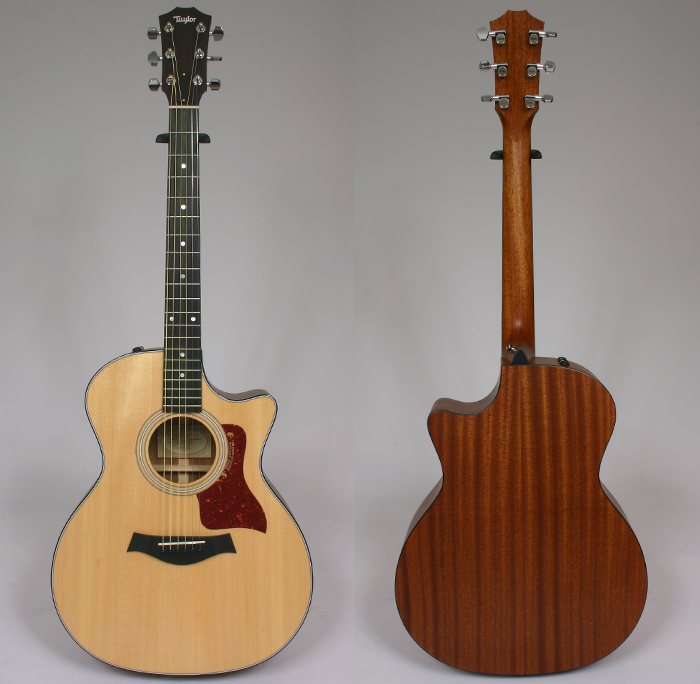guitar: (47, 4, 322, 677), (392, 7, 647, 677)
